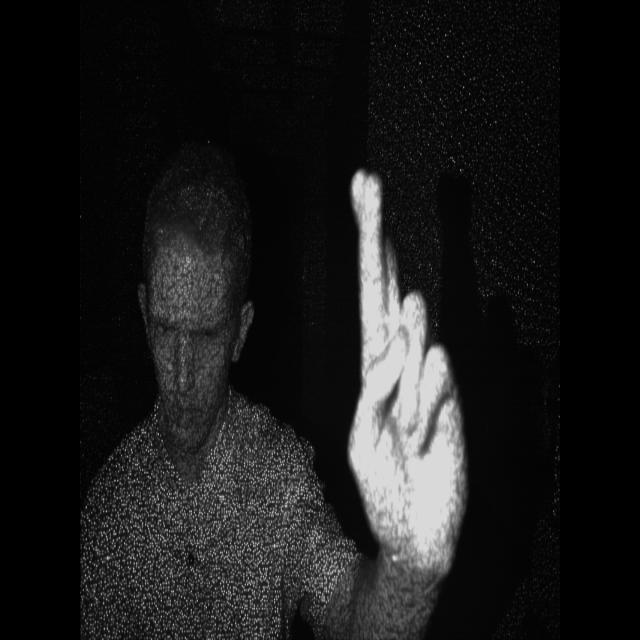R: (324, 147, 478, 598)
